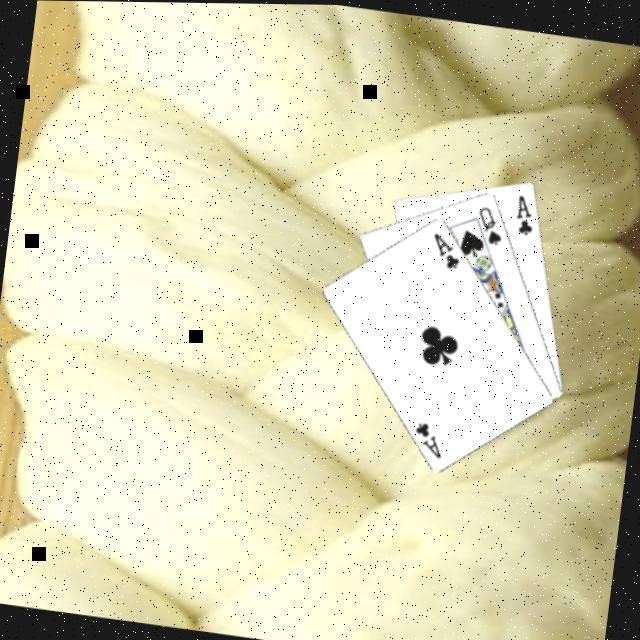AC: (427, 226, 468, 270), (409, 414, 450, 458), (513, 187, 542, 236)
QS: (473, 200, 510, 247)
